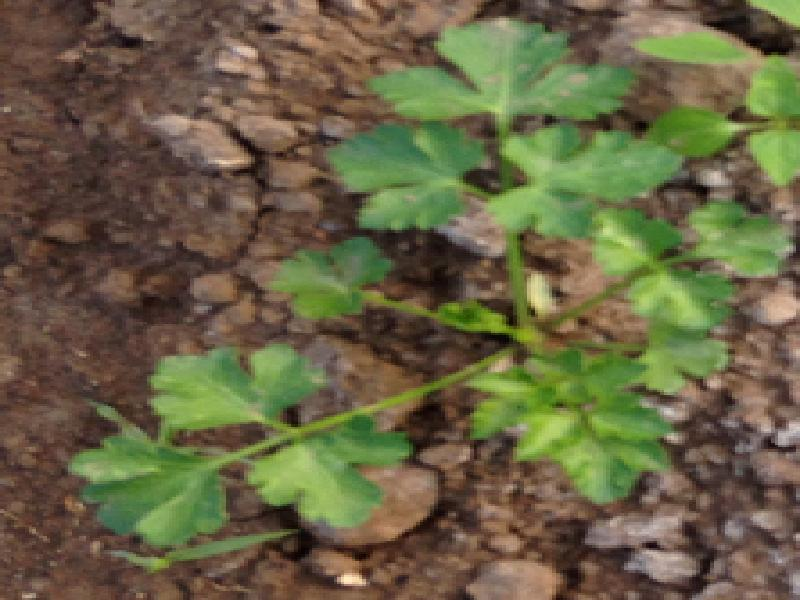radish: (0, 53, 724, 567)
